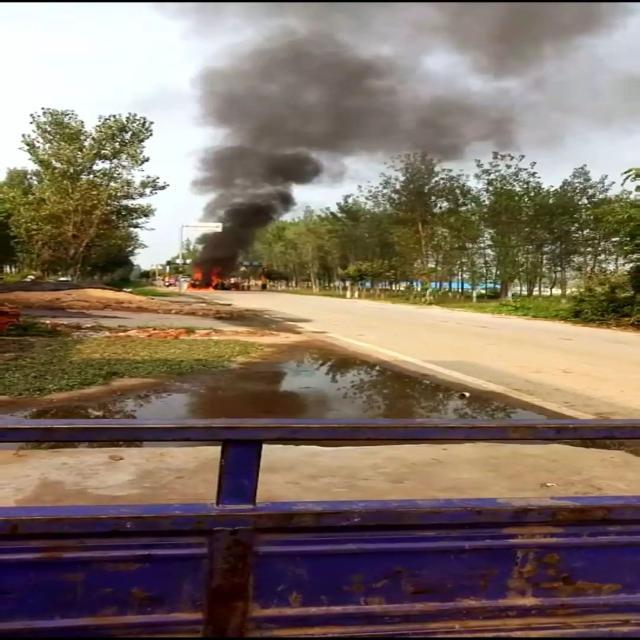Smoke: (182, 2, 634, 148), (184, 147, 310, 264)
